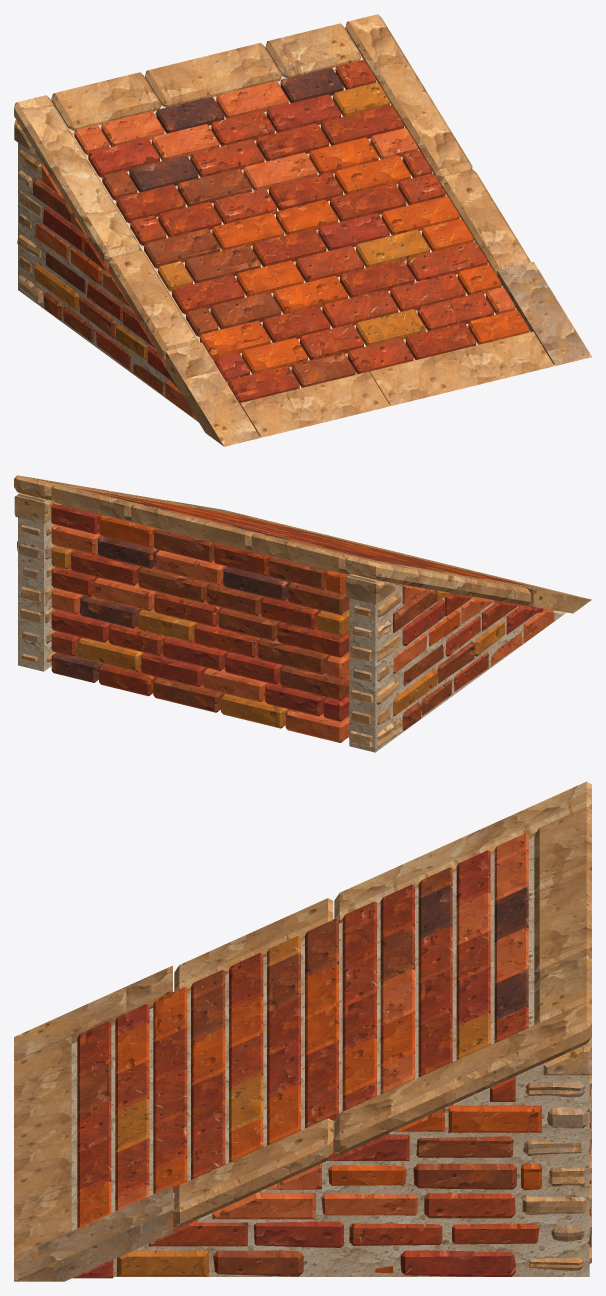
The model's file is ramp__clay_brick.glb.
3 views of the same model, one above another, from view 1: azimuth 30°, elevation 25°; view 2: azimuth 150°, elevation 25°; view 3: azimuth 270°, elevation 25° (orthographic). The views are drawn at different scales.
Visible parts, largest first — view 1: model; view 2: model; view 3: model.
Part boxes in pixels (bbox=[...]): model: bbox=[14, 14, 591, 446]; model: bbox=[14, 475, 591, 752]; model: bbox=[14, 781, 591, 1281].
Bounding box in the file's own units: 1.98 × 0.9781 × 1.98.
Materials: 13 (13 with a texture image).
